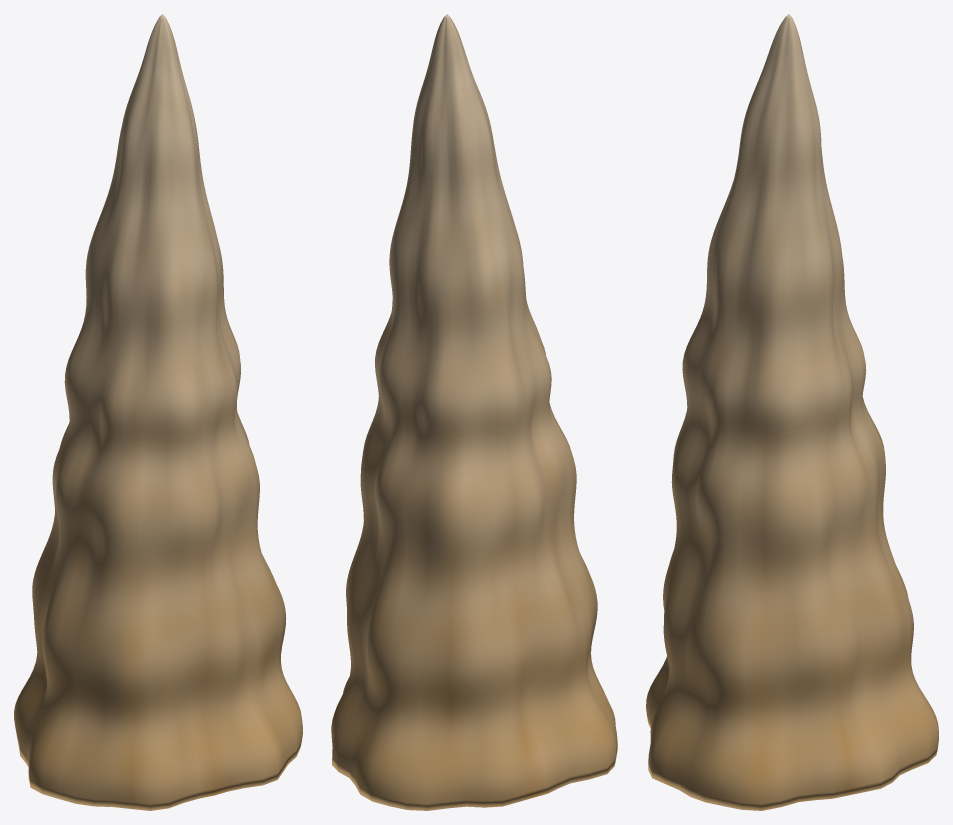
Rendered from stalagmite-1.glb.
3 views of the same model, side by side, from view 1: azimuth 30°, elevation 25°; view 2: azimuth 150°, elevation 25°; view 3: azimuth 270°, elevation 25° (orthographic).
Parts seen in each view (by area): view 1: Stalagmite 1; view 2: Stalagmite 1; view 3: Stalagmite 1.
Boxes of the visible parts, <box> form: Stalagmite 1: <box>14,14,302,810</box>; Stalagmite 1: <box>331,14,617,810</box>; Stalagmite 1: <box>646,14,938,810</box>.
Bounding box in the file's own units: 0.3745 × 1 × 0.3584.
